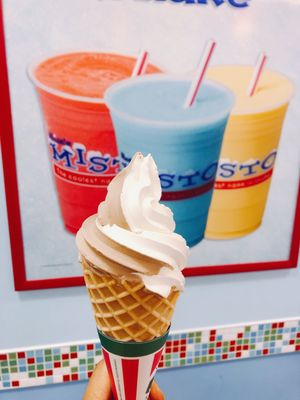pizza: (104, 74, 236, 249), (27, 50, 145, 237)
salad: (184, 39, 216, 109)
